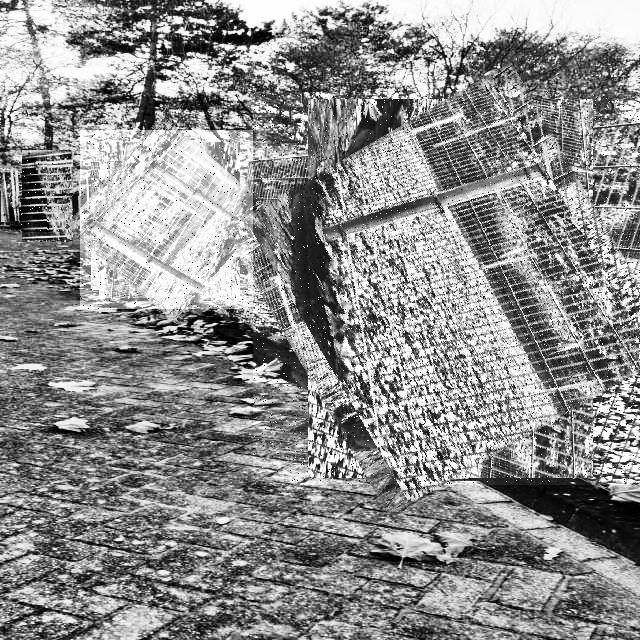fences: (253, 92, 640, 485), (80, 130, 259, 309), (11, 160, 83, 232)
